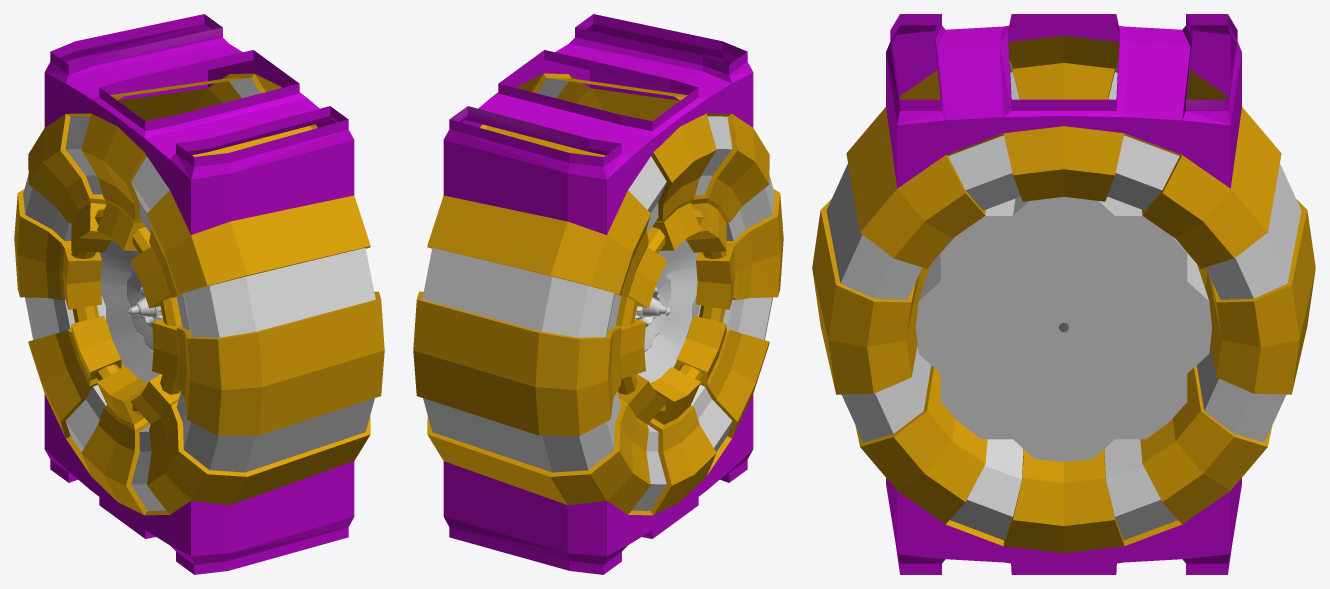
The model's file is mod_Laser.fbx.
The picture shows the model from 3 angles, left to right: view 1: azimuth 30°, elevation 25°; view 2: azimuth 150°, elevation 25°; view 3: azimuth 270°, elevation 25°; orthographic projection. The views are drawn at different scales.
Parts seen in each view (by area): view 1: LaserModulo_low, LaserConector_low, LaserAbrazaderas_low, LaserCentro_low; view 2: LaserModulo_low, LaserConector_low, LaserAbrazaderas_low, LaserCentro_low; view 3: LaserModulo_low, LaserCentro_low, LaserConector_low, LaserAbrazaderas_low.
Part boxes in pixels (bbox=[...]): LaserModulo_low: bbox=[14, 73, 384, 515]; LaserConector_low: bbox=[44, 14, 354, 574]; LaserAbrazaderas_low: bbox=[23, 78, 375, 510]; LaserCentro_low: bbox=[100, 240, 162, 382]; LaserModulo_low: bbox=[413, 73, 783, 515]; LaserConector_low: bbox=[443, 14, 753, 574]; LaserAbrazaderas_low: bbox=[422, 78, 774, 510]; LaserCentro_low: bbox=[635, 240, 697, 382]; LaserModulo_low: bbox=[812, 35, 1315, 553]; LaserCentro_low: bbox=[916, 196, 1211, 461]; LaserConector_low: bbox=[886, 14, 1241, 574]; LaserAbrazaderas_low: bbox=[826, 64, 1301, 540].
Bounding box in the file's own units: 200 × 417 × 400.
